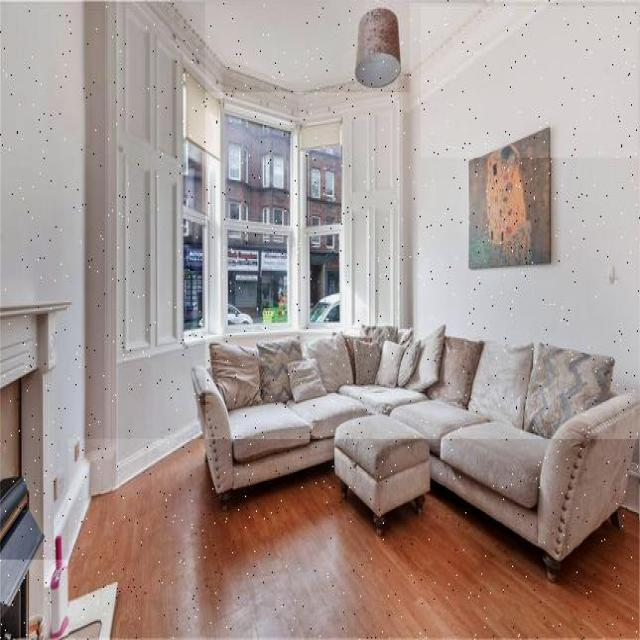Wall: (0, 2, 205, 560), (69, 440, 640, 639), (410, 3, 640, 390), (421, 7, 638, 158), (171, 1, 486, 92), (493, 97, 500, 118)
